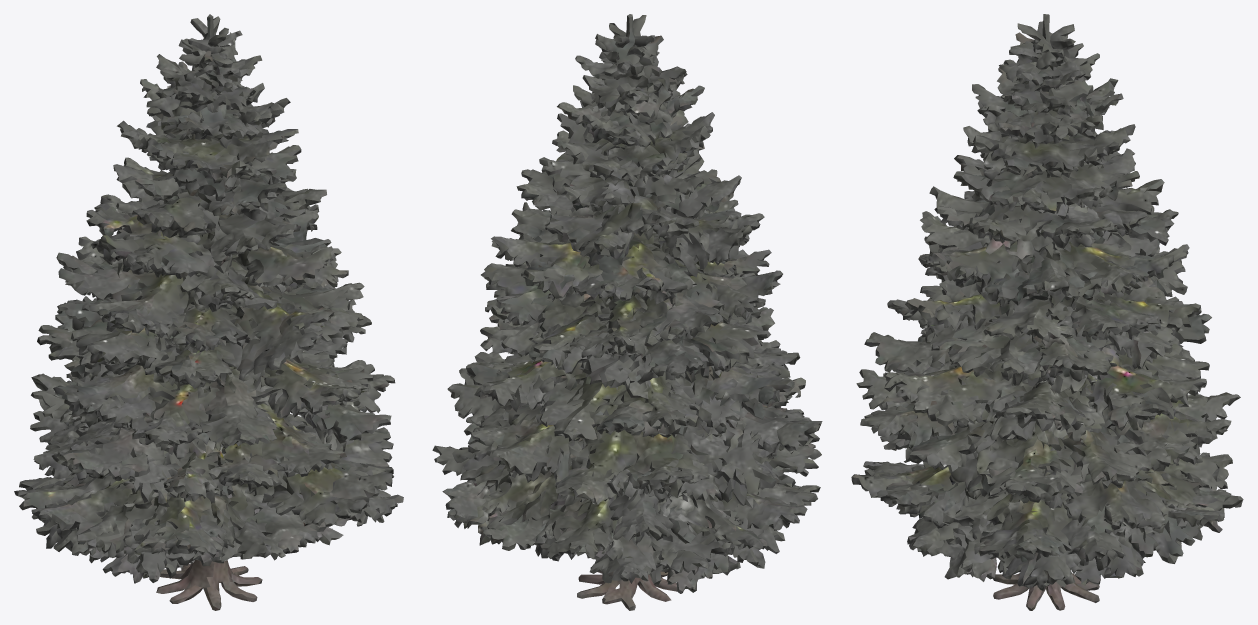
Rendered from r7-abies-fabri.glb.
The picture shows the model from 3 angles, left to right: view 1: azimuth 30°, elevation 25°; view 2: azimuth 150°, elevation 25°; view 3: azimuth 270°, elevation 25°; orthographic projection.
Parts seen in each view (by area): view 1: geometry_0; view 2: geometry_0; view 3: geometry_0.
Part boxes in pixels (x1,y1,x2,y2): geometry_0: (14, 14, 403, 610); geometry_0: (432, 14, 822, 610); geometry_0: (851, 14, 1243, 610).
Bounding box in the file's own units: 15.76 × 25 × 15.4.
1 material, 1 textured.
